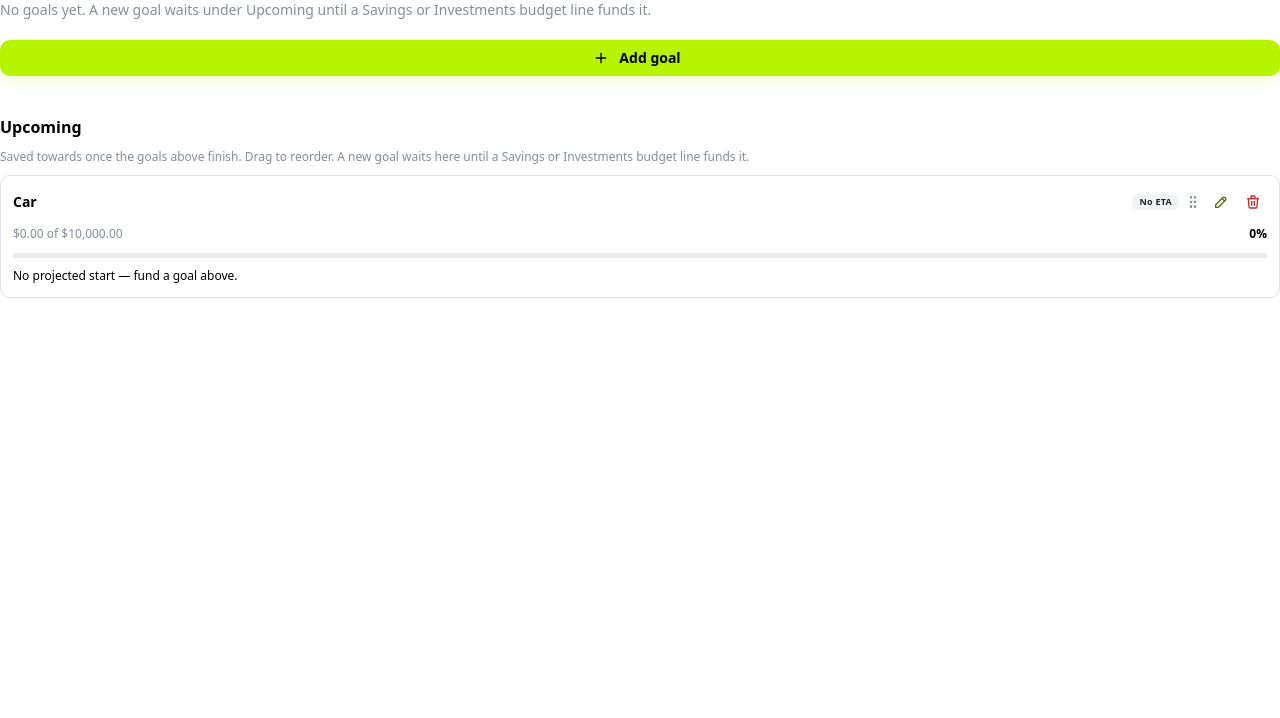
GoalList › edits a goal in place
What coordinates should you click on to do the following:
click the button named "edit"
I would click on:
 (1221, 202)
Its box is [1207,188,1235,216].
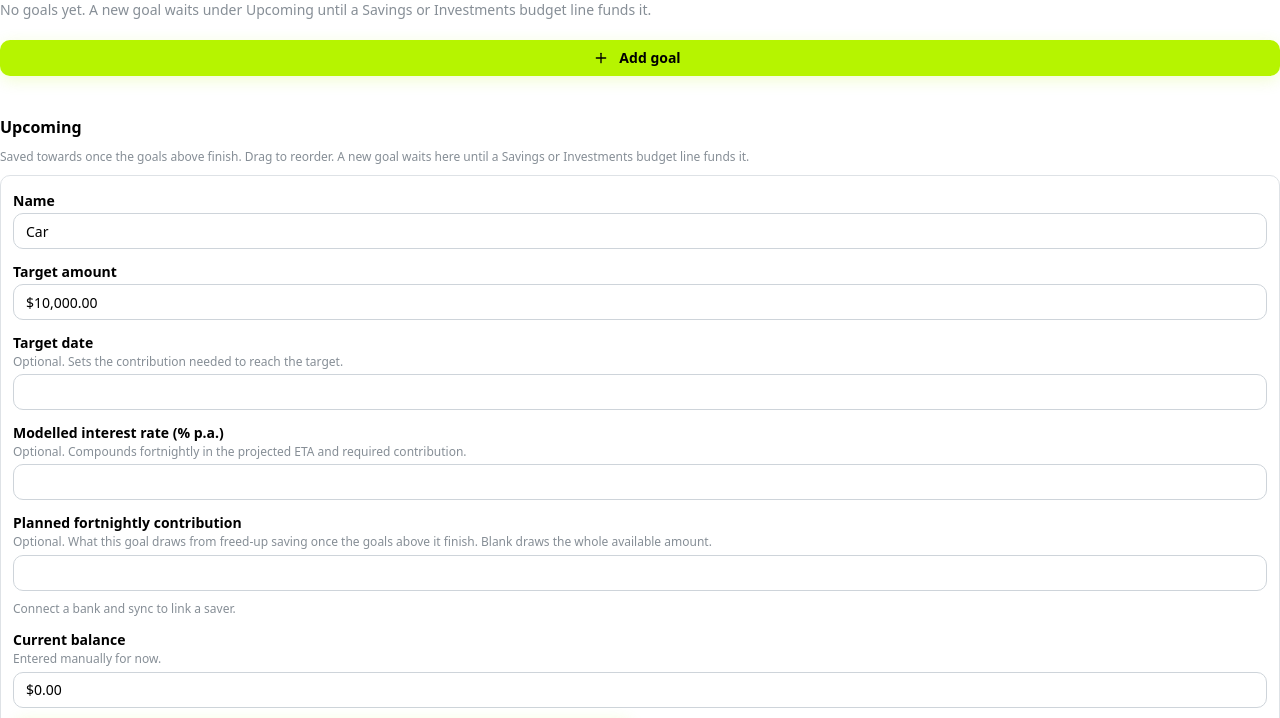
Expected: the field labelled "Name" holds "Car", [13,213,1267,249]
